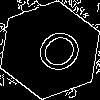O: (25, 25, 88, 85)
